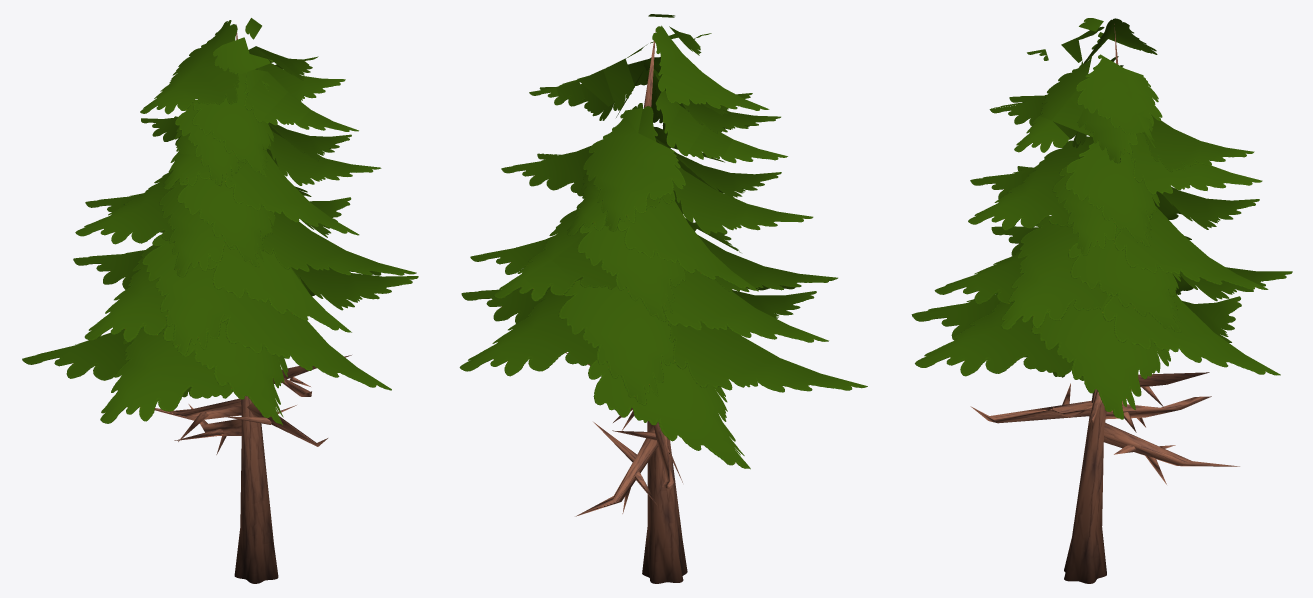
File: mk-pine-1-lo.glb
3 views of the same model, side by side, from view 1: azimuth 30°, elevation 25°; view 2: azimuth 150°, elevation 25°; view 3: azimuth 270°, elevation 25° (orthographic). The views are drawn at different scales.
Parts seen in each view (by area): view 1: Pine_1; view 2: Pine_1; view 3: Pine_1.
Part boxes in pixels (left/top/right/bottom): Pine_1: left=22, top=18, right=418, bottom=583; Pine_1: left=459, top=14, right=867, bottom=583; Pine_1: left=911, top=18, right=1292, bottom=583.
Bounding box in the file's own units: 5 × 7.16 × 4.59.
2 materials, 2 textured.
